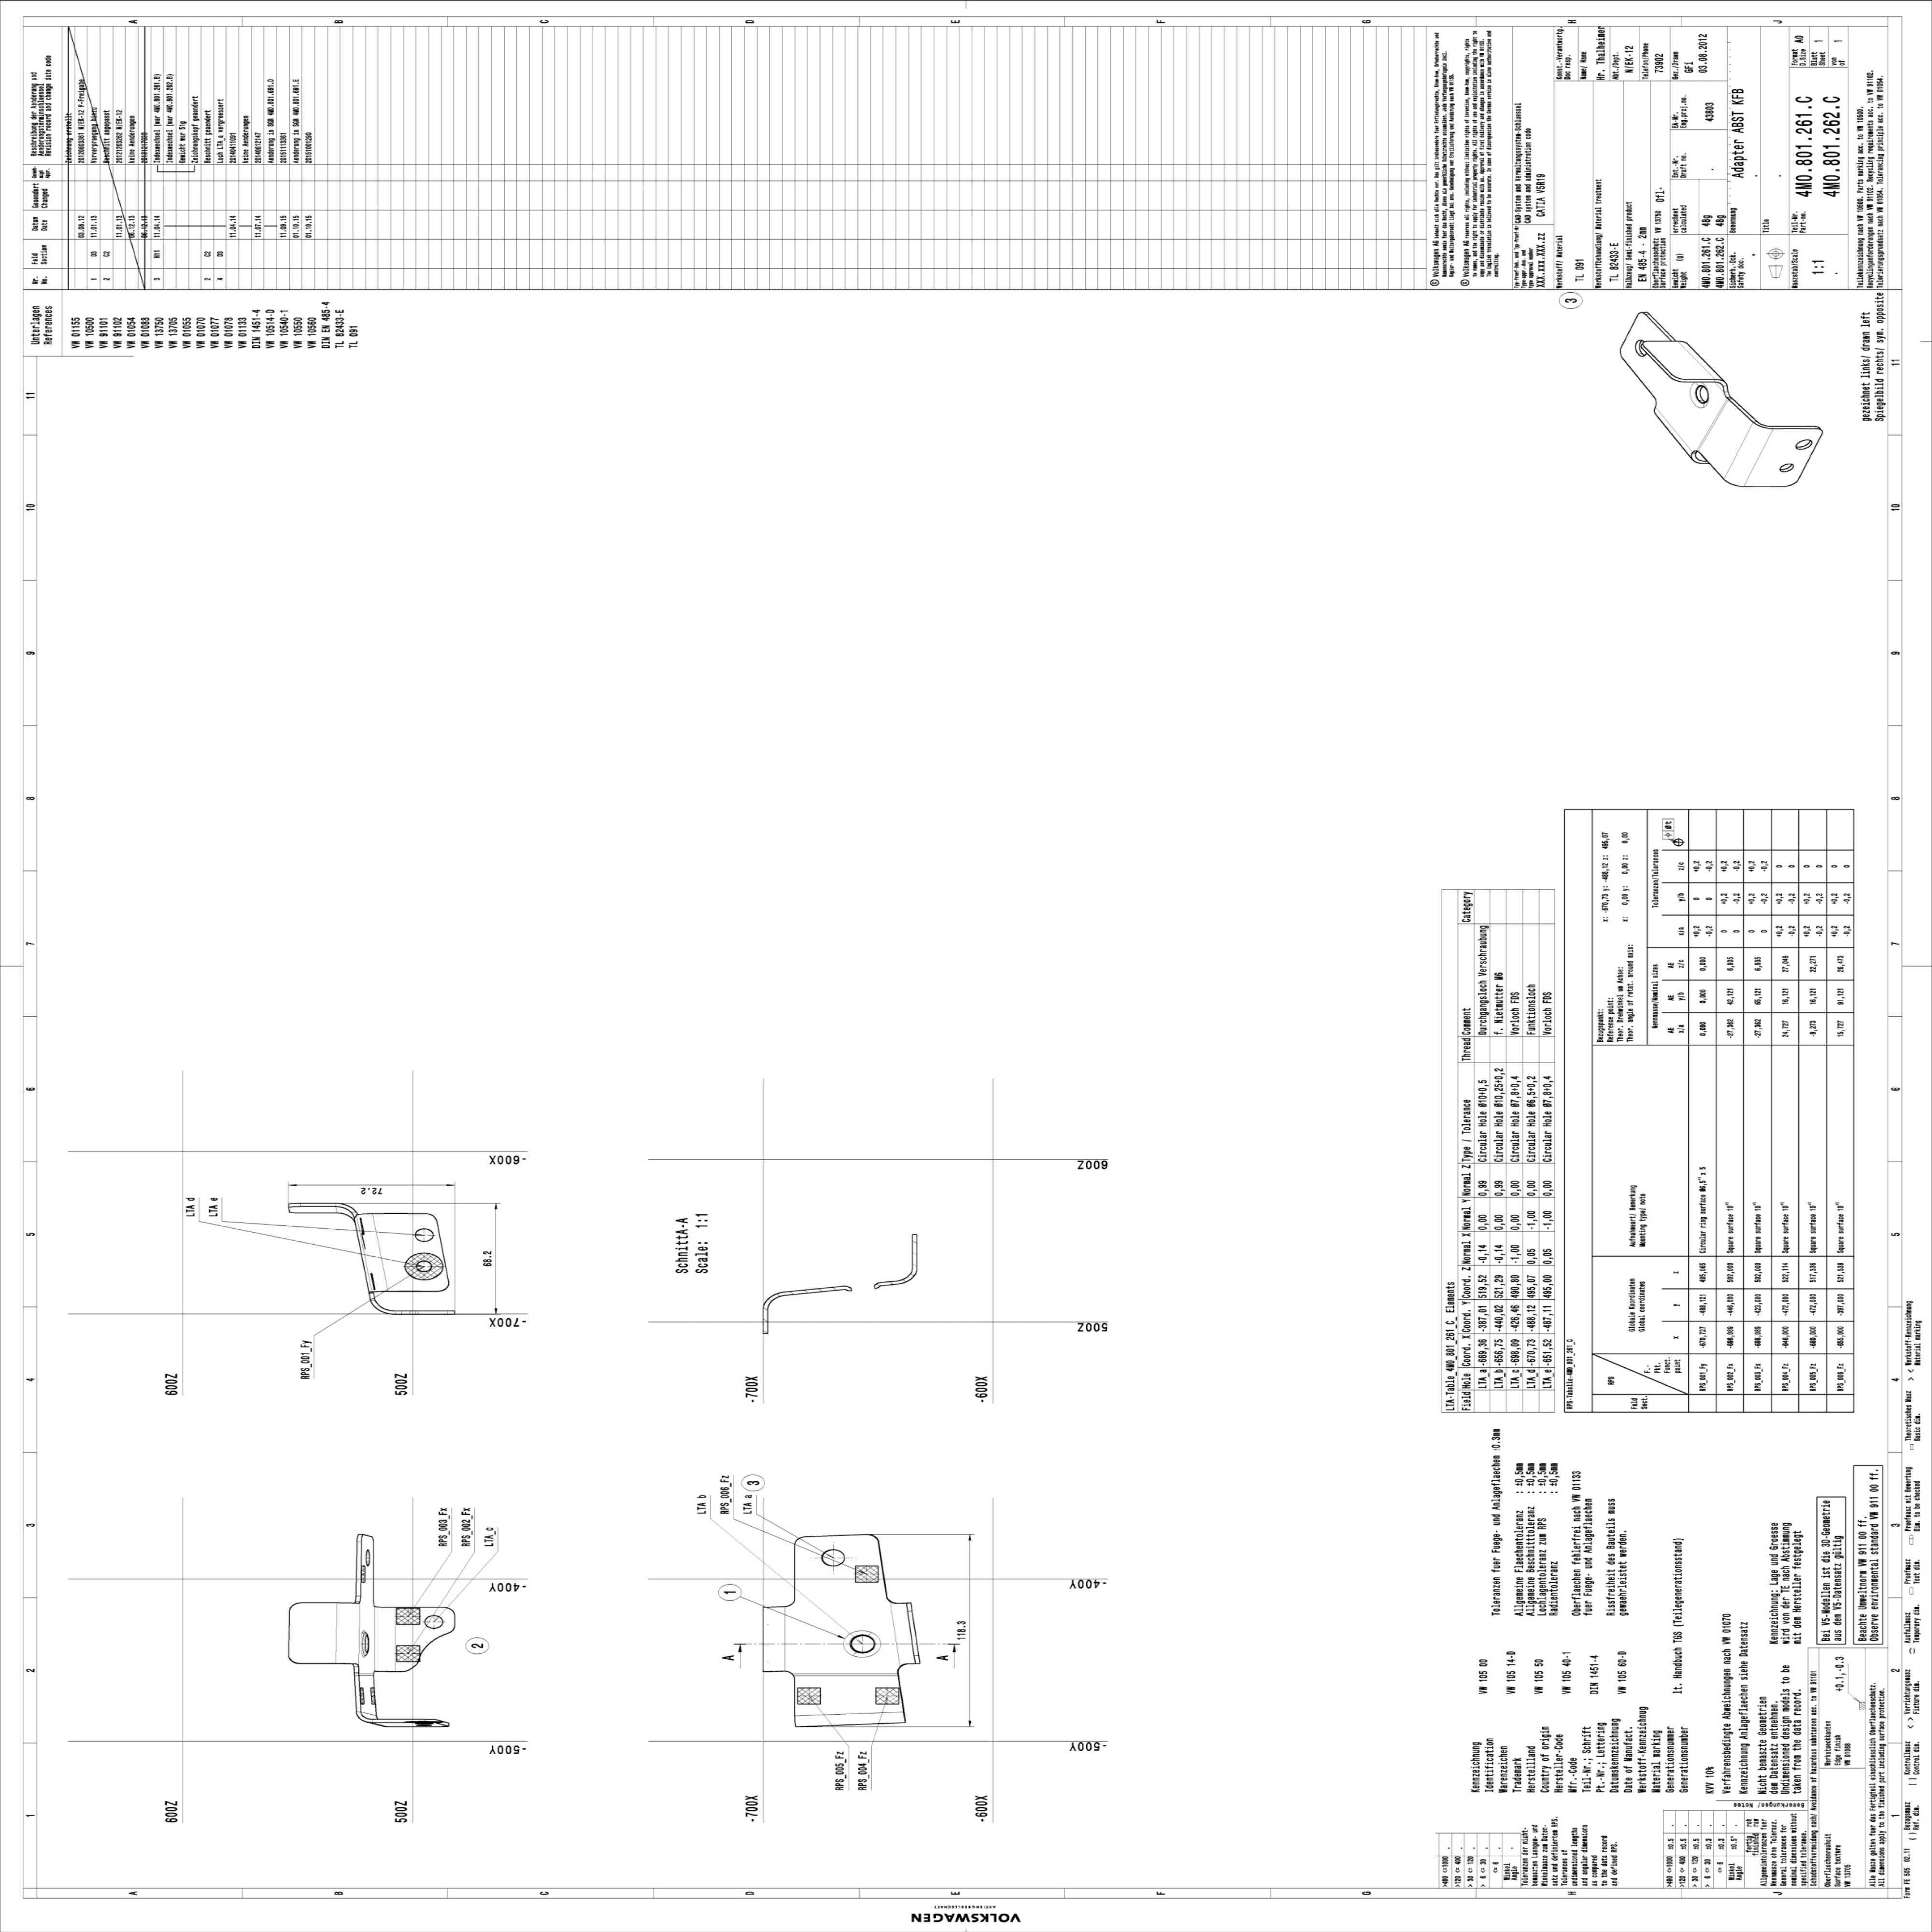BendingEdge: (1721, 416, 1776, 492), (356, 1215, 388, 1291), (1696, 400, 1730, 451), (889, 1603, 916, 1664), (335, 1604, 360, 1663), (762, 1608, 786, 1669), (373, 1607, 396, 1671), (792, 1672, 900, 1678), (360, 1672, 372, 1677)
BendingEdgeCurve: (369, 1297, 397, 1315), (333, 1201, 357, 1217), (355, 1709, 374, 1724), (1713, 379, 1729, 388)
InnerContour: (819, 1548, 849, 1567), (412, 1227, 437, 1243), (423, 1612, 444, 1630), (1634, 337, 1648, 357), (1794, 437, 1814, 451), (1778, 461, 1794, 475), (364, 1548, 371, 1567)
ThroughHole: (841, 1629, 883, 1659), (405, 1250, 443, 1282), (1689, 381, 1711, 409)
ThroughHoleExternal: (361, 1628, 370, 1660)
